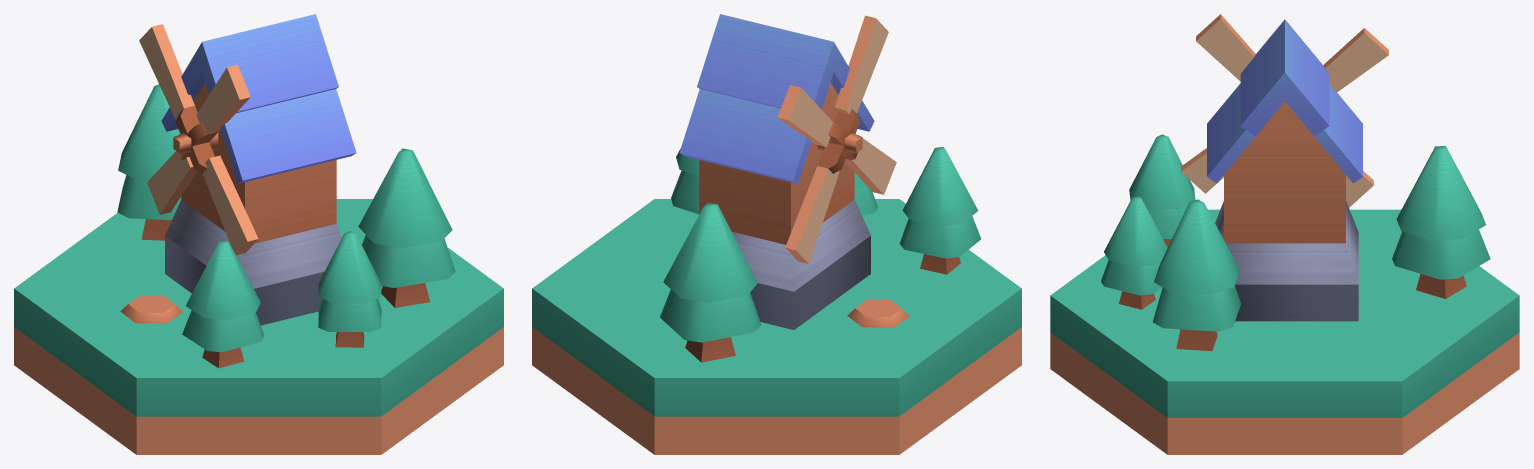
Rendered from building-mill.glb.
3 views of the same model, side by side, from view 1: azimuth 30°, elevation 25°; view 2: azimuth 150°, elevation 25°; view 3: azimuth 270°, elevation 25° (orthographic). The views are drawn at different scales.
Parts seen in each view (by area): view 1: building-mill, rotate-x; view 2: building-mill, rotate-x; view 3: building-mill, rotate-x.
Part boxes in pixels (x1,y1,x2,y2): building-mill: [14, 14, 503, 454]; rotate-x: [139, 24, 258, 255]; building-mill: [532, 14, 1021, 454]; rotate-x: [777, 15, 896, 263]; building-mill: [1050, 19, 1519, 454]; rotate-x: [1181, 14, 1388, 207].
Bounding box in the file's own units: 1 × 0.8811 × 1.15.
Materials: 1 (1 with a texture image).
